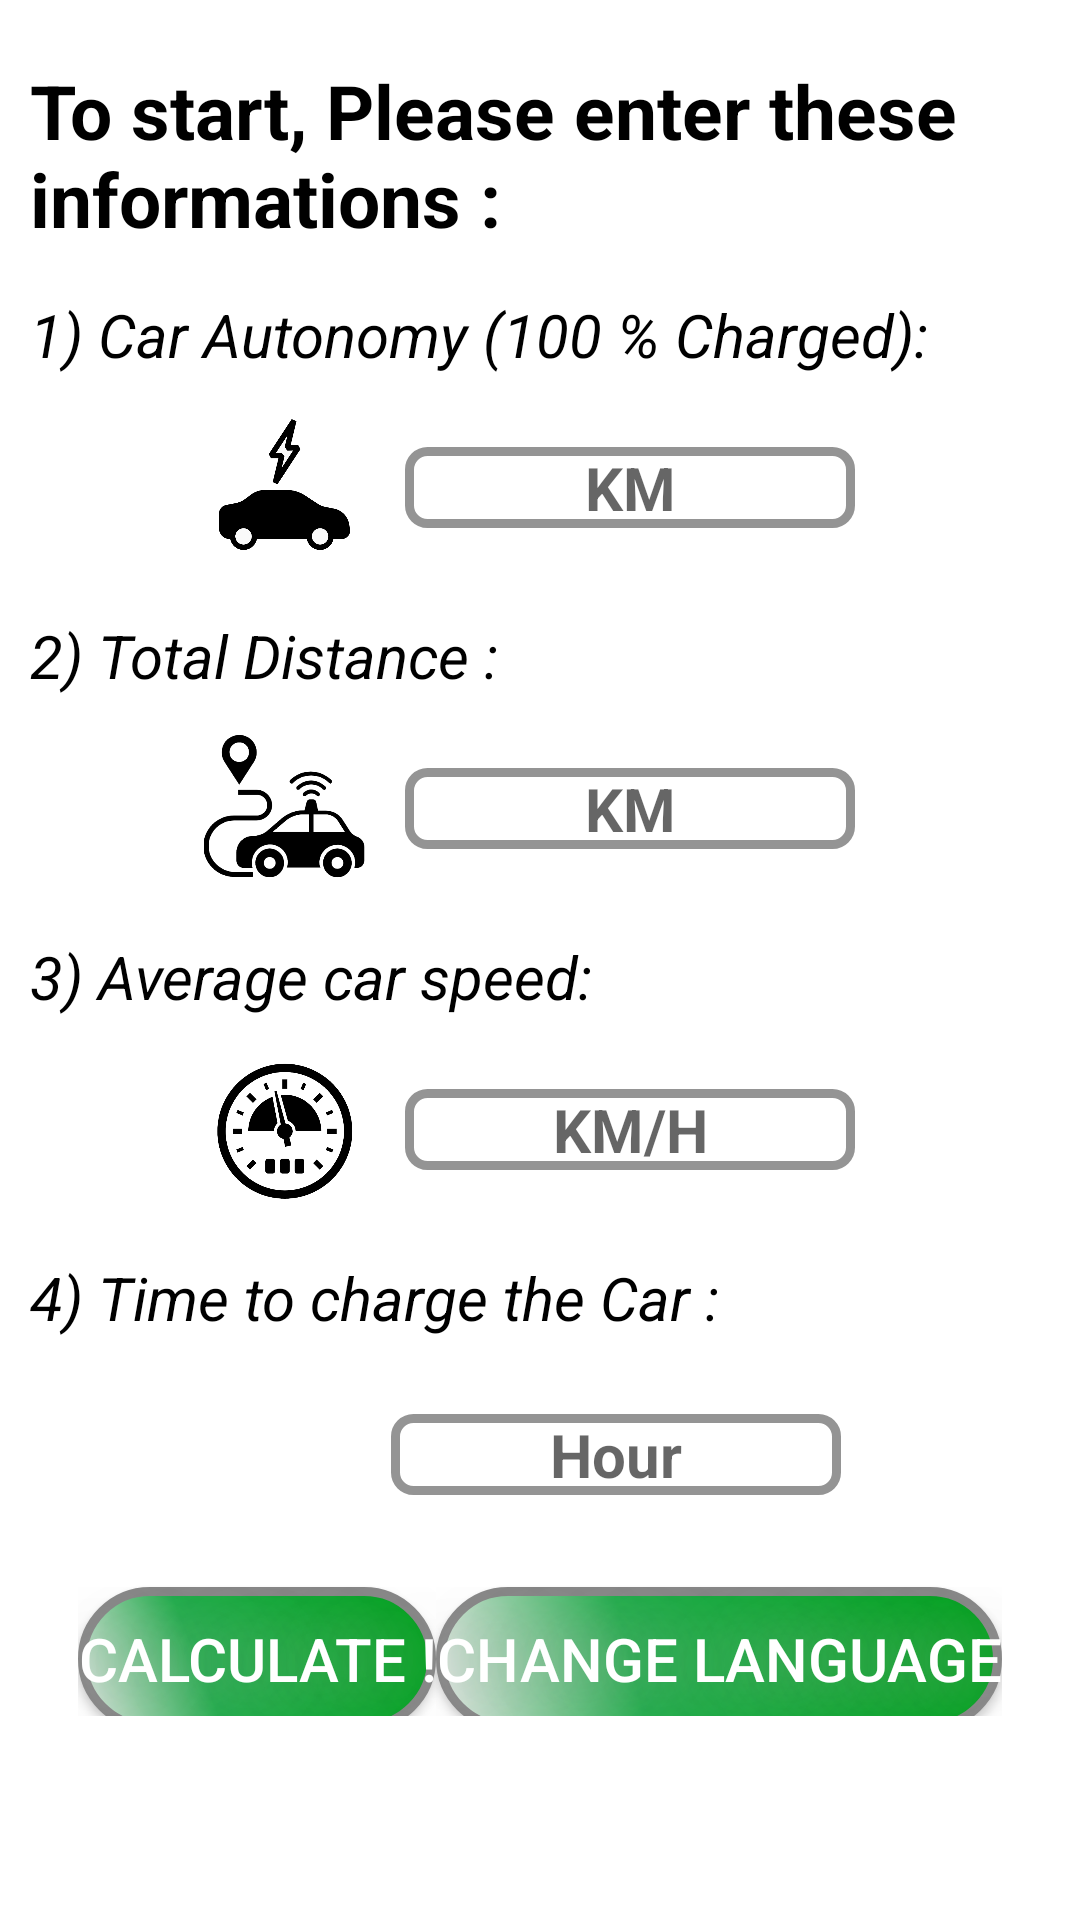

Icons on this 1080px×1920px Android screen, each with its box as (x1, y1, x2, y2):
meter: (217, 1064, 352, 1199)
